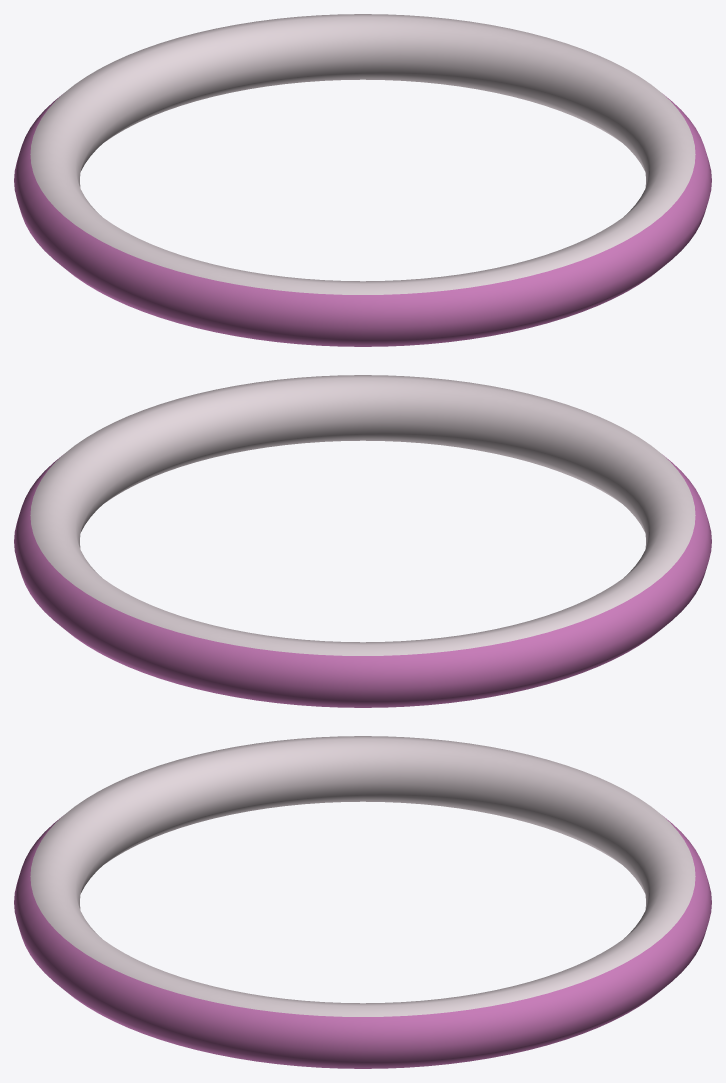
File: onion(singular).fbx
3 renders of one model, top to bottom at view 1: azimuth 30°, elevation 25°; view 2: azimuth 150°, elevation 25°; view 3: azimuth 270°, elevation 25°, orthographic.
Parts seen in each view (by area): view 1: Torus; view 2: Torus; view 3: Torus.
Part boxes in pixels (x1,y1,x2,y2): Torus: (14, 14, 711, 346); Torus: (14, 375, 711, 707); Torus: (14, 736, 711, 1068).
Size of the model in its own units: 209 by 19.66 by 209.
